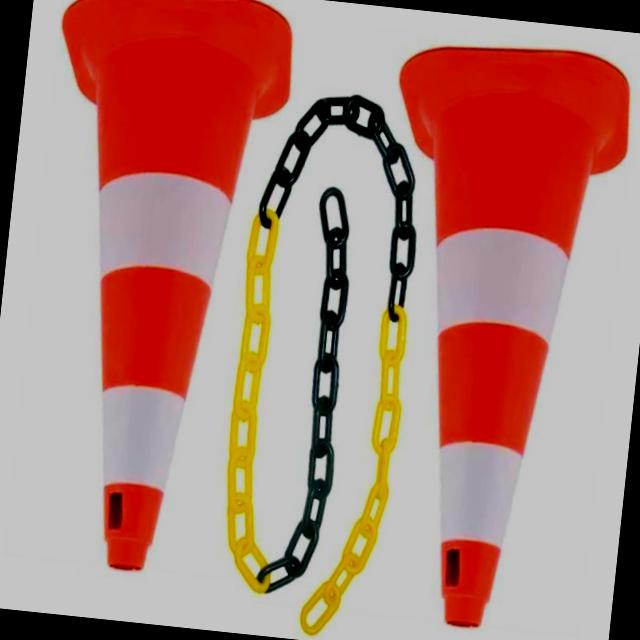cone: (346, 36, 627, 640), (18, 0, 296, 591)
